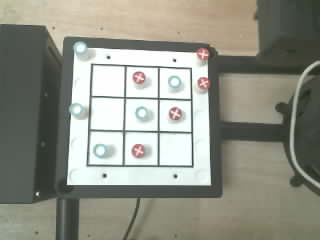blue circle: (73, 41, 88, 56), (69, 103, 84, 116), (93, 144, 106, 157), (135, 106, 147, 120), (168, 76, 181, 88)
board: (67, 42, 211, 185)
cells: (89, 132, 122, 164), (125, 132, 157, 165), (90, 98, 123, 129), (160, 133, 191, 165), (92, 65, 124, 96), (159, 100, 191, 131), (159, 68, 191, 98), (126, 67, 157, 97), (137, 107, 147, 119)
grid: (87, 64, 193, 167)
red cross: (131, 144, 144, 157), (196, 48, 209, 60), (169, 107, 182, 119), (133, 71, 145, 84), (197, 77, 210, 89)
